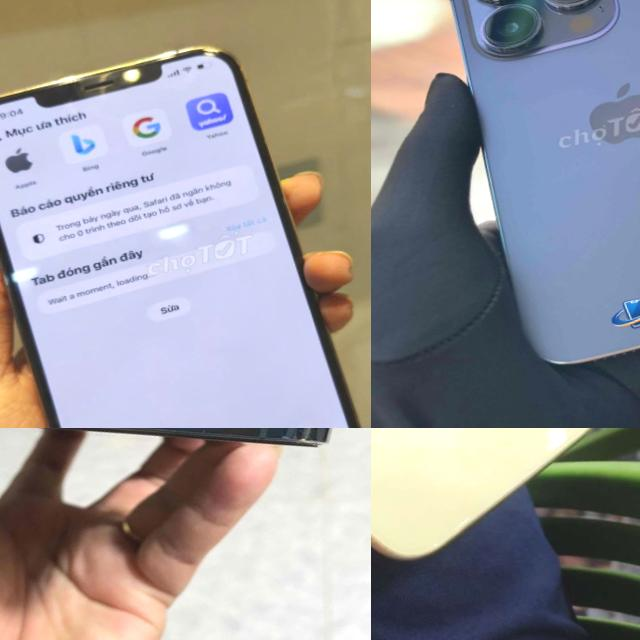gen_11: (371, 428, 633, 624)
gen_12_13: (0, 19, 371, 428), (0, 428, 371, 575)
gen_14: (430, 0, 640, 381)
